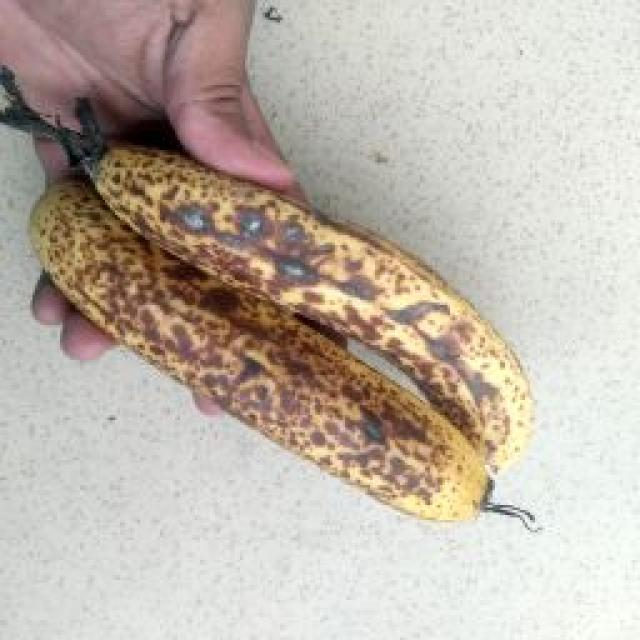banana: (170, 65, 579, 514)
